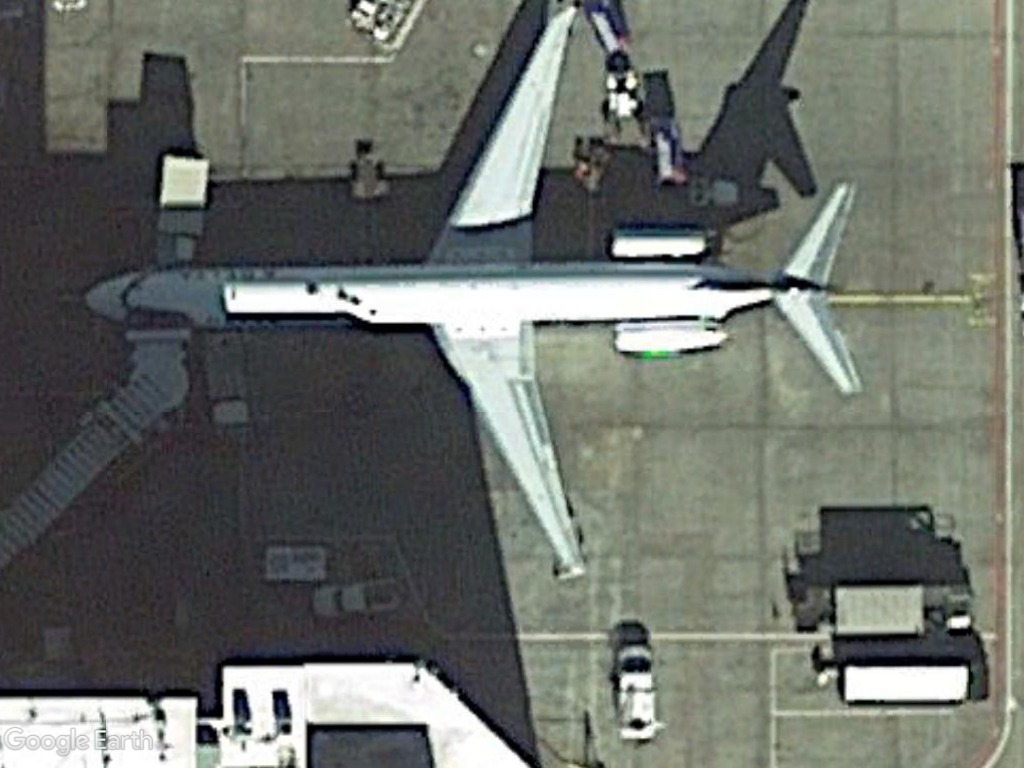chartered: (72, 6, 870, 592)
van: (609, 639, 660, 748)
